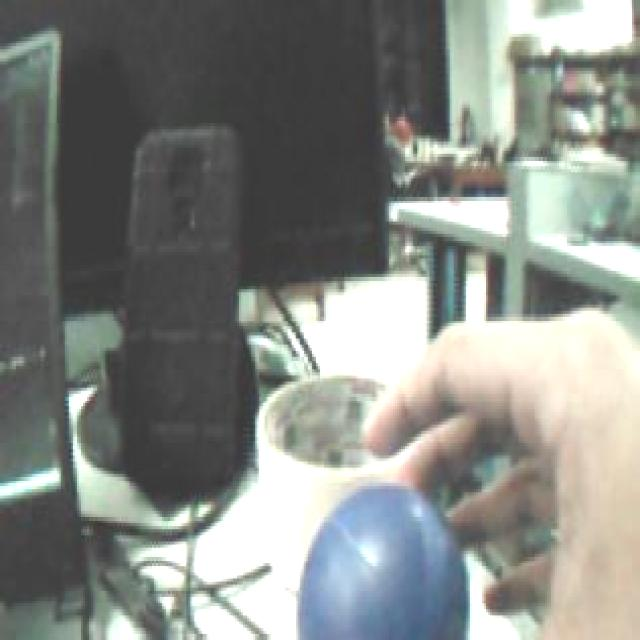BallPurple: (295, 483, 469, 640)
